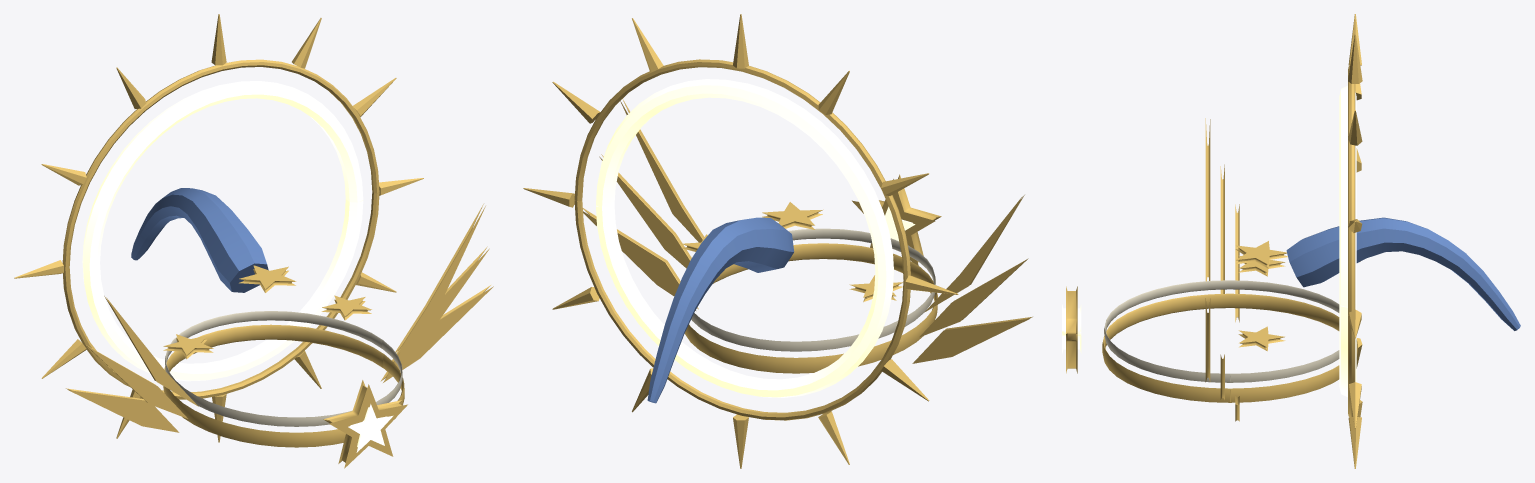
The model's file is asc_lightbinder_helm.glb.
The picture shows the model from 3 angles, left to right: view 1: azimuth 30°, elevation 25°; view 2: azimuth 150°, elevation 25°; view 3: azimuth 270°, elevation 25°; orthographic projection. The views are drawn at different scales.
Parts seen in each view (by area): view 1: asc_lightbinder_helm; view 2: asc_lightbinder_helm; view 3: asc_lightbinder_helm.
Boxes of the visible parts, box(x1,y1,x2,y2) form: asc_lightbinder_helm: box(14, 14, 493, 468); asc_lightbinder_helm: box(523, 14, 1032, 468); asc_lightbinder_helm: box(1062, 14, 1520, 468).
Size of the model in its own units: 0.6472 by 0.62 by 0.6231.
